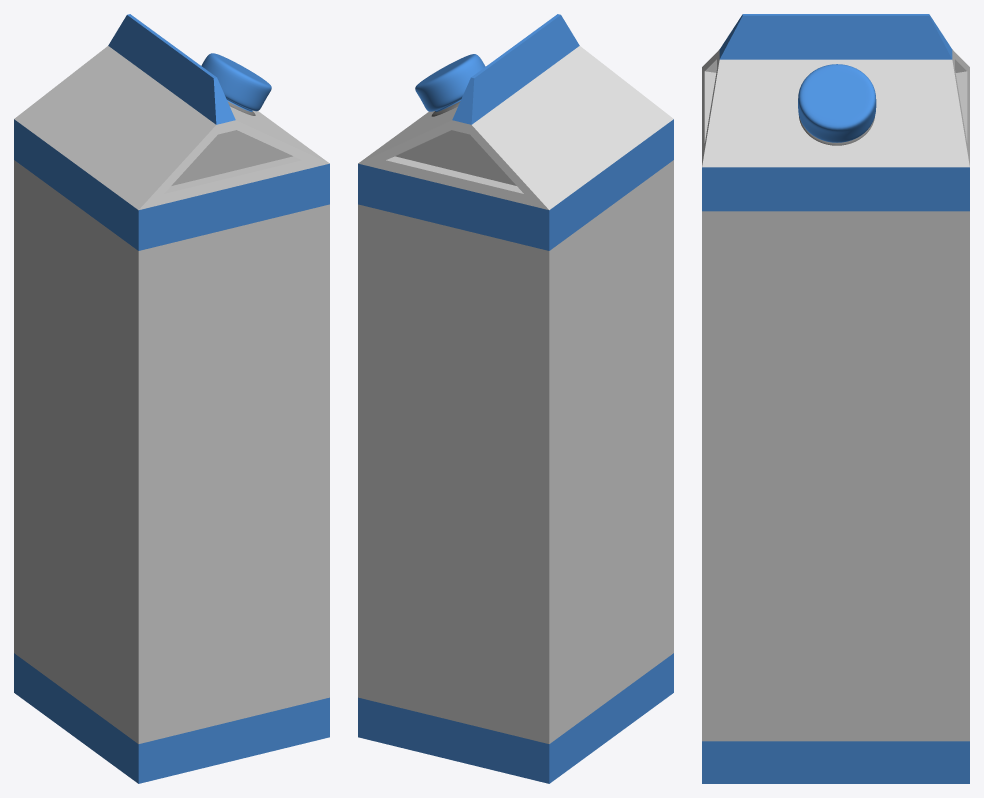
Rendered from CajaLeche.fbx.
3 views of the same model, side by side, from view 1: azimuth 30°, elevation 25°; view 2: azimuth 150°, elevation 25°; view 3: azimuth 270°, elevation 25° (orthographic). The views are drawn at different scales.
Visible parts, largest first — view 1: Cube, Cylinder; view 2: Cube, Cylinder; view 3: Cube, Cylinder.
Part boxes in pixels (x1,y1,x2,y2): Cube: [14, 14, 329, 783]; Cylinder: [201, 53, 271, 115]; Cube: [358, 14, 673, 783]; Cylinder: [415, 54, 485, 116]; Cube: [702, 14, 969, 783]; Cylinder: [798, 64, 876, 145].
Size of the model in its own units: 1.36 by 4.56 by 1.54.
